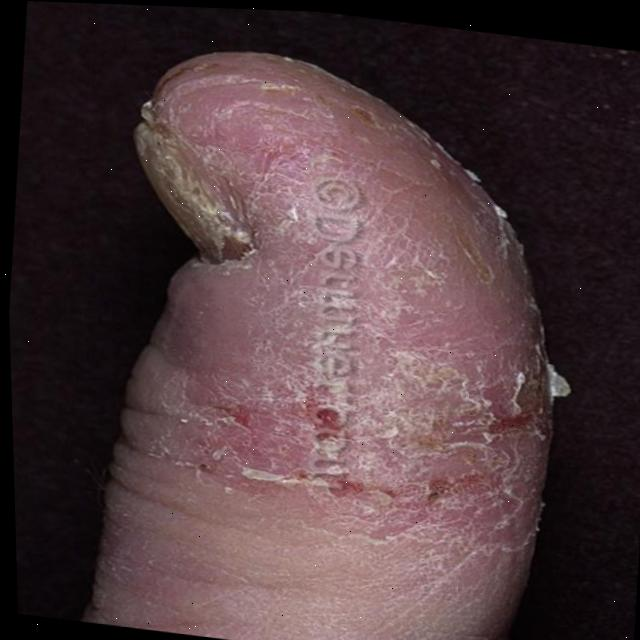Eczema: (158, 47, 585, 563)
